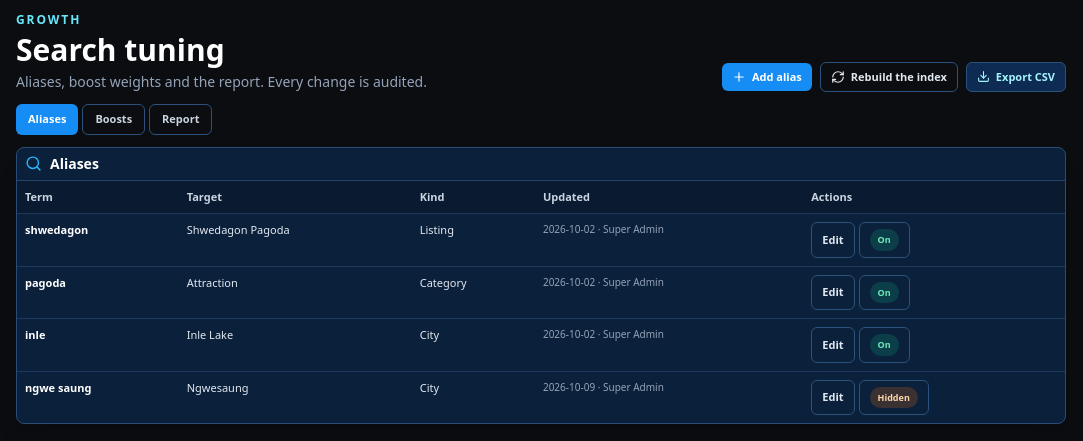
Search tuning (O-67, §3A.12) › refuses a boost weight outside the range instead of clamping it
Click the button "Boosts". click: (114, 119)
box: x1=82 y1=104 x2=145 y2=134
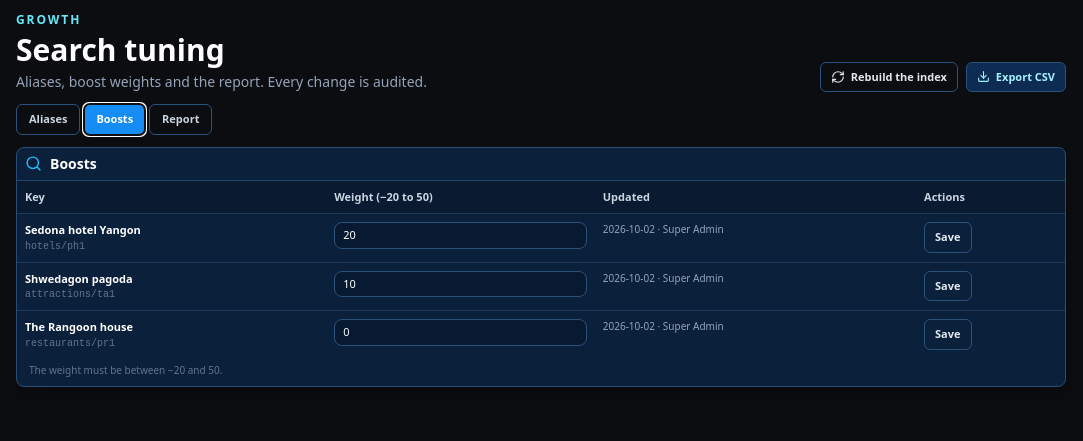
# The rows name a real index object, because `set_search_boost` takes one.
Replace the text in the number field named "Sedona hotel Yangon" with "99". click: (460, 235)
box: x1=334 y1=222 x2=587 y2=248
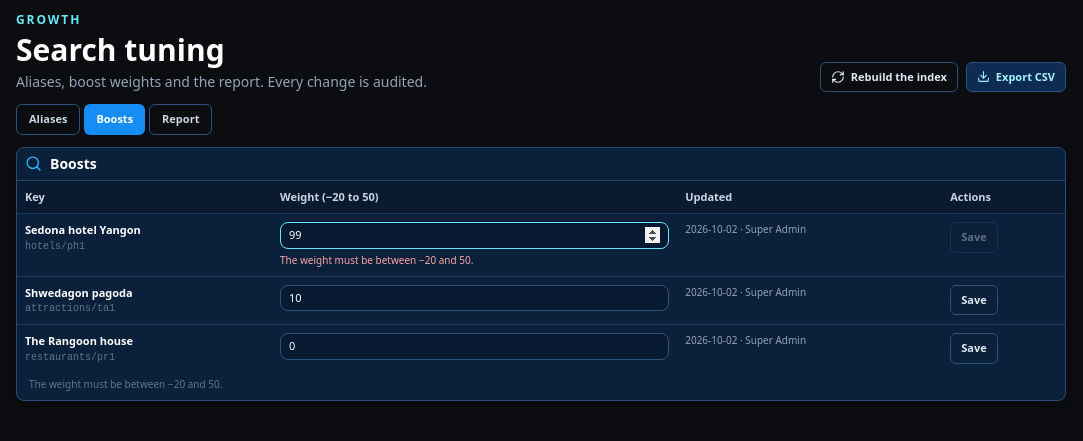
Now the text "The weight must be between −20 and 50." below "Sedona hotel Yangon" is shown, box x1=280 y1=252 x2=473 y2=266
Now the button "Save" in the row of "Sedona hotel Yangon" is disabled, box x1=950 y1=222 x2=998 y2=252
